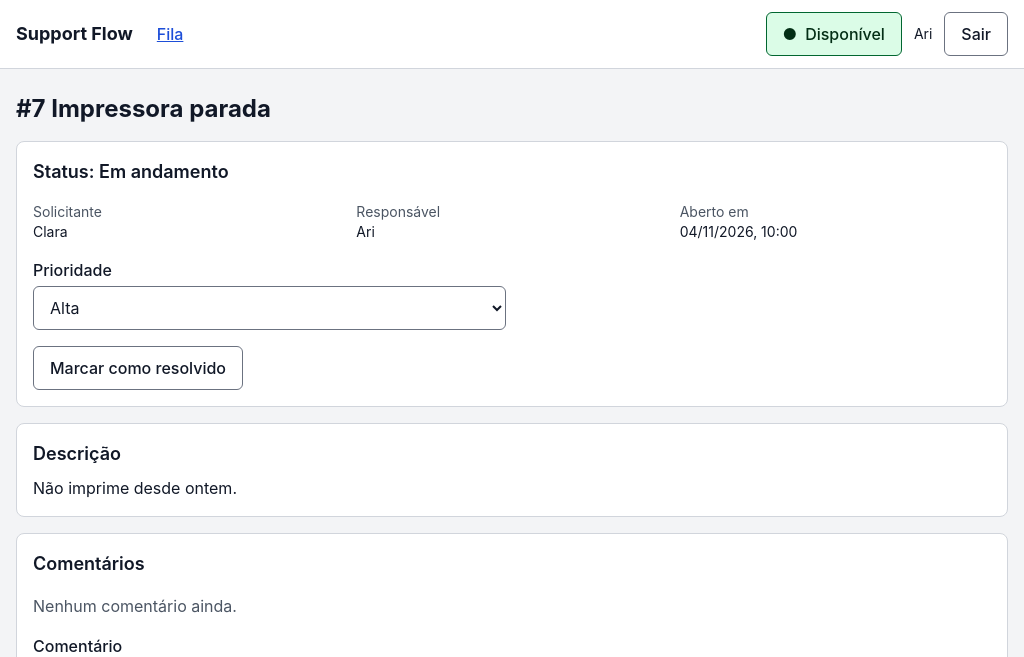
ticket › transição certa atualiza o status, avisa e leva o foco ao status
Click the button "Marcar como resolvido": {"x": 138, "y": 368} x1=33 y1=346 x2=243 y2=390
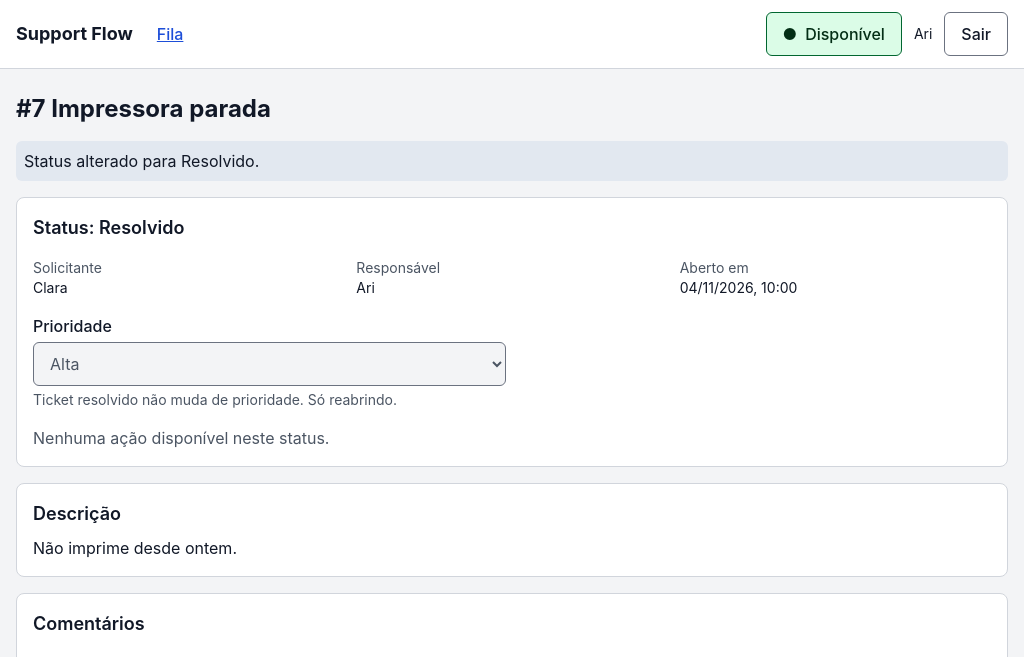
Expected: the text "Status alterado para Resolvido." is shown, x1=16 y1=141 x2=1008 y2=181
